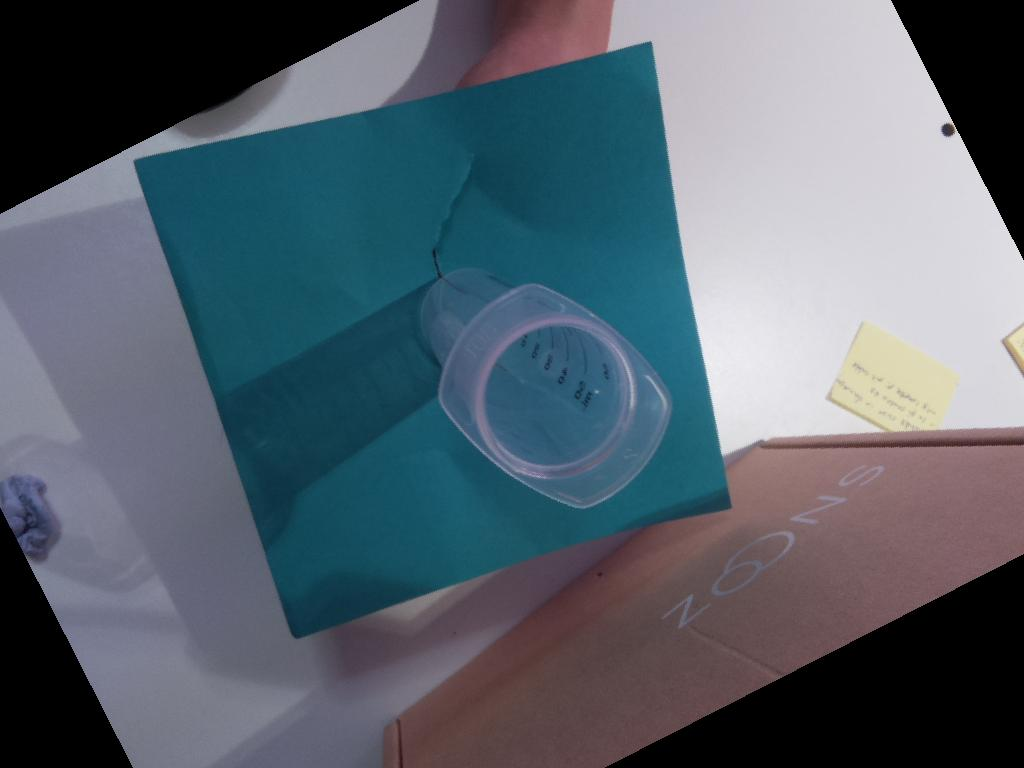clean: (438, 281, 676, 510)
